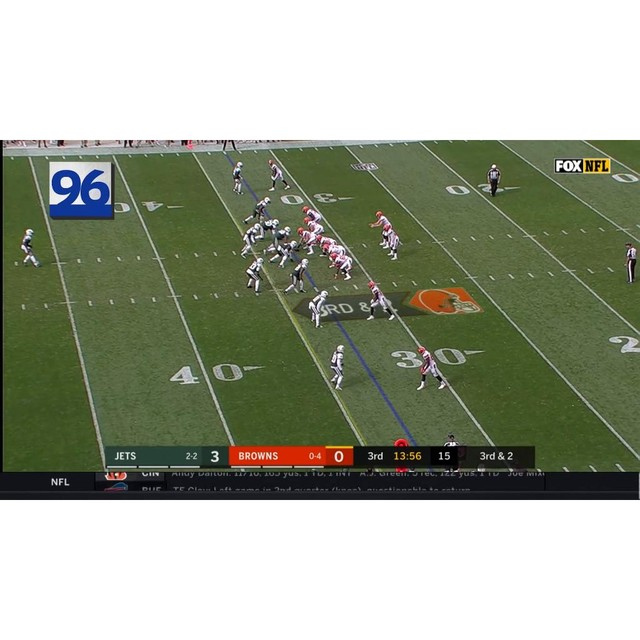american-football-player: (416, 345, 448, 390), (367, 280, 395, 320), (263, 226, 293, 258), (284, 258, 310, 294), (268, 239, 300, 268), (368, 210, 392, 247), (19, 229, 42, 267), (240, 223, 263, 258), (244, 196, 272, 224), (309, 290, 329, 328), (268, 158, 290, 191), (382, 223, 401, 261), (330, 344, 345, 391), (245, 257, 264, 294), (296, 227, 318, 255), (331, 254, 353, 281), (261, 218, 281, 242), (232, 161, 245, 195), (303, 206, 323, 226)
referee: (624, 242, 638, 284), (486, 164, 500, 197)
